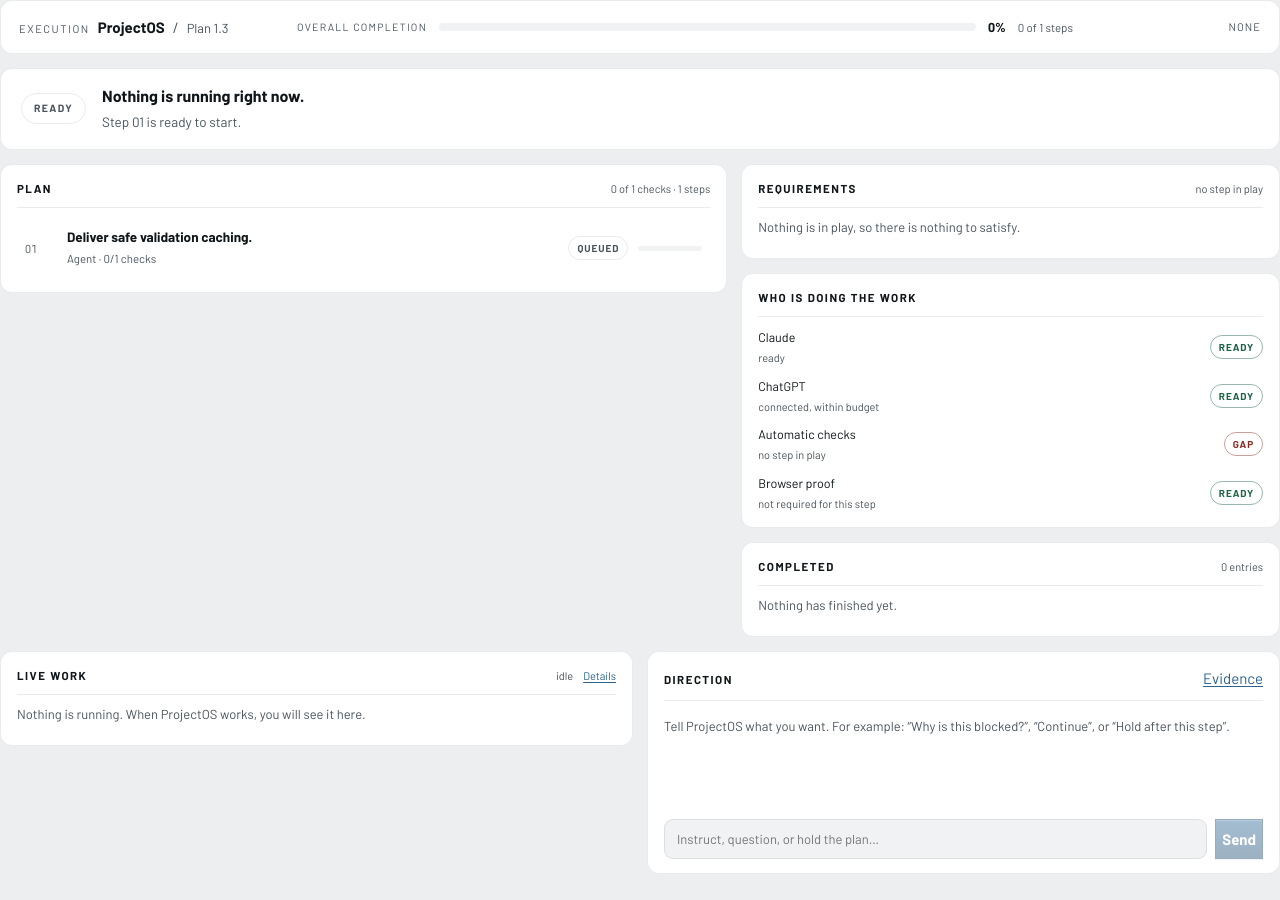
no command reaches the runtime from free text unasked › a command with no confirmation of its own is still asked about
The width and height of the screenshot is (1280, 900).
Type "anything at all" into the field named "Tell ProjectOS what you want" at (936, 839), box [664,819,1207,859]
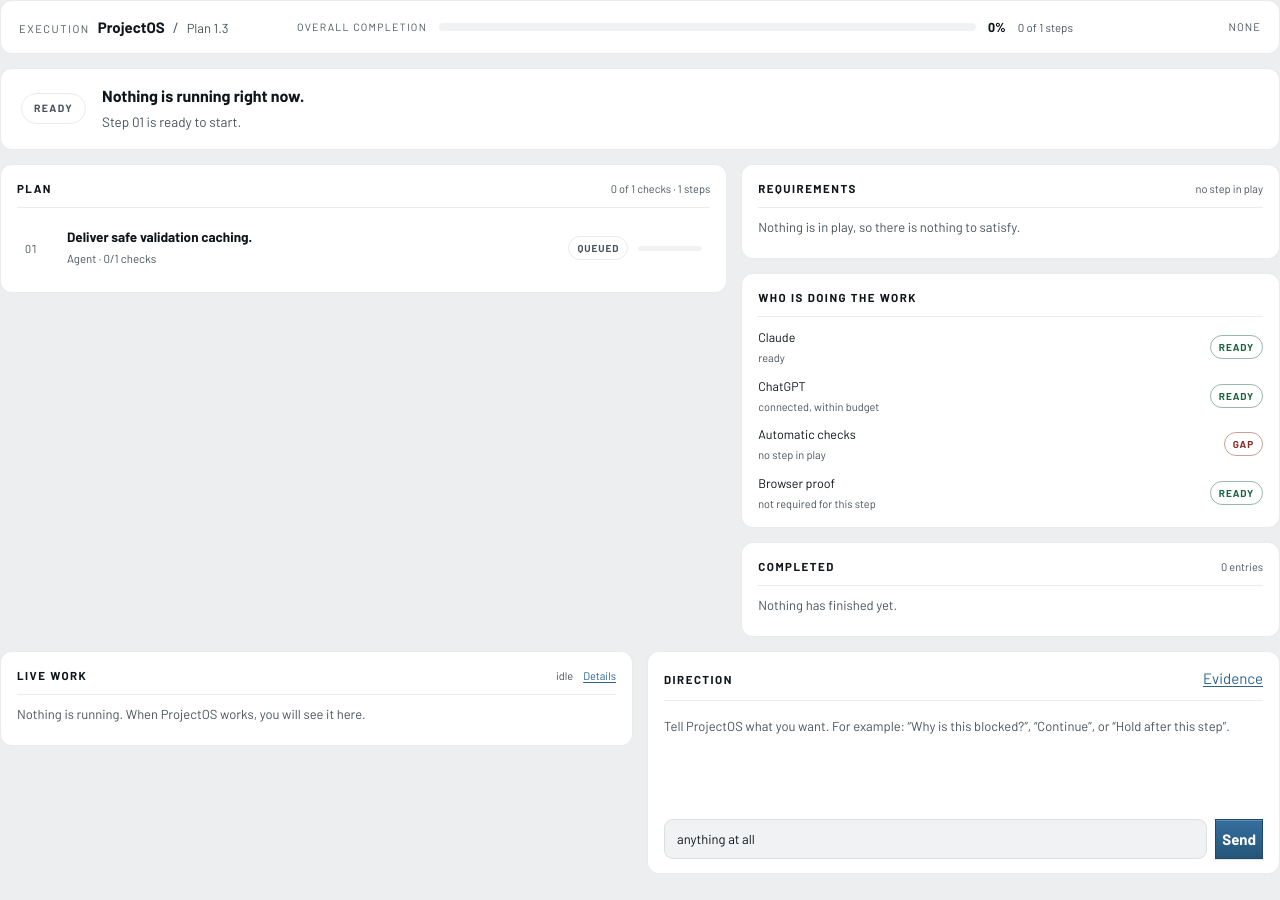
Click the button "Send" at (1239, 839), box [1215,819,1263,859]
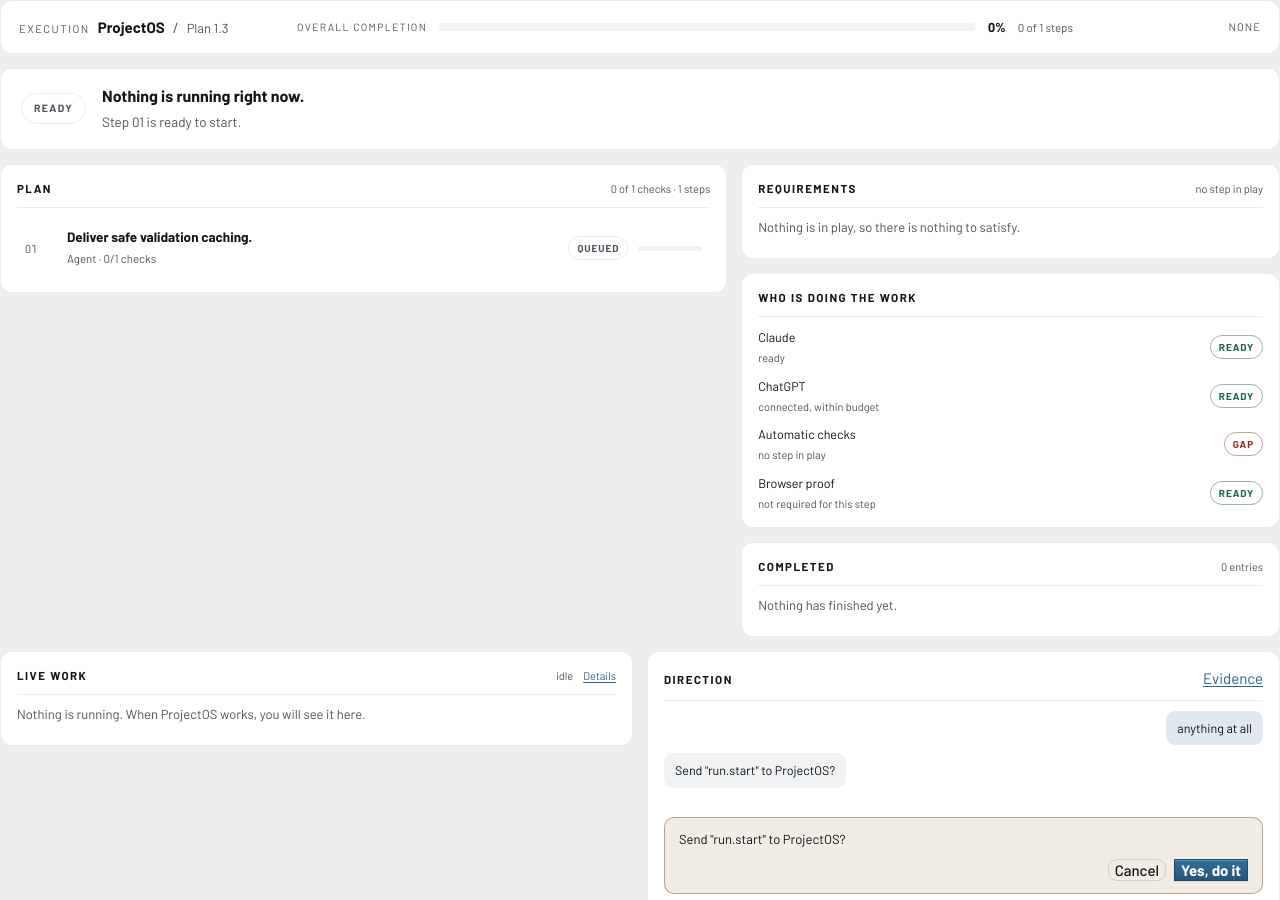
Expected: the button "Yes, do it" is shown, [1174,859,1248,881]
Expected: the text "Send \"run.start\" to ProjectOS?" is shown, [664,753,846,788]
